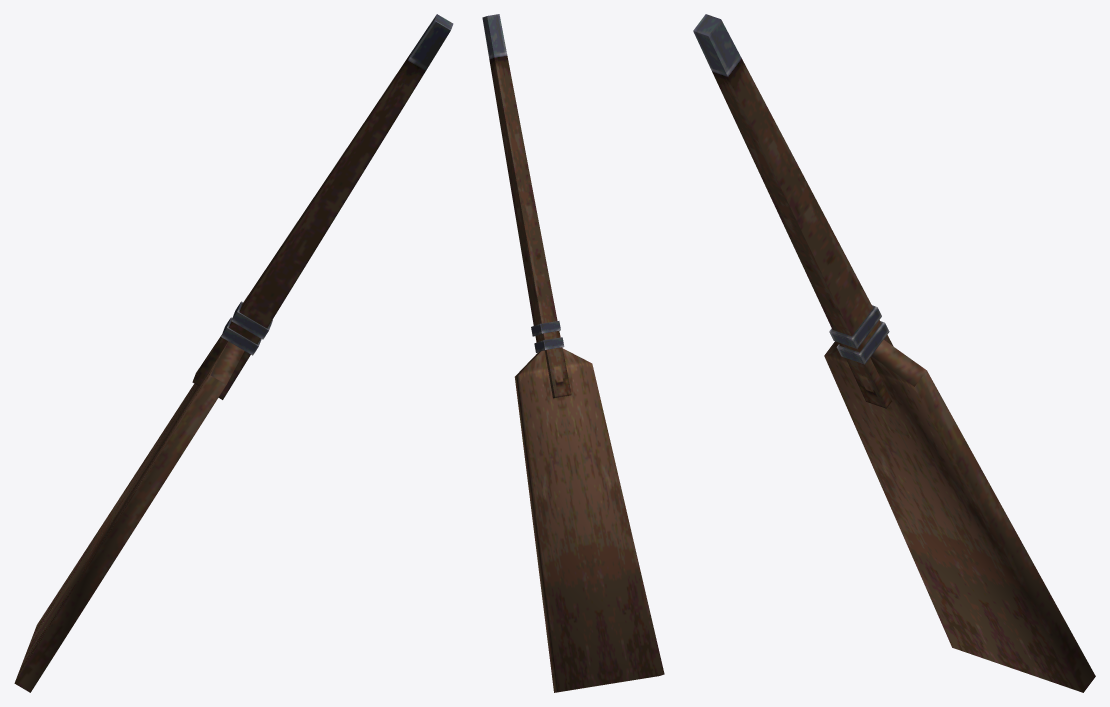
3 views of the same model, side by side, from view 1: azimuth 30°, elevation 25°; view 2: azimuth 150°, elevation 25°; view 3: azimuth 270°, elevation 25° (orthographic). The views are drawn at different scales.
Visible parts, largest first — view 1: pasted__Combined_Mesh_root_scene__Mesh_polySurface4501; view 2: pasted__Combined_Mesh_root_scene__Mesh_polySurface4501; view 3: pasted__Combined_Mesh_root_scene__Mesh_polySurface4501.
Part boxes in pixels (x1,y1,x2,y2): pasted__Combined_Mesh_root_scene__Mesh_polySurface4501: (14,14,453,692); pasted__Combined_Mesh_root_scene__Mesh_polySurface4501: (482,14,664,692); pasted__Combined_Mesh_root_scene__Mesh_polySurface4501: (693,14,1095,692).
Bounding box in the file's own units: 3.43 × 6.64 × 2.99.
